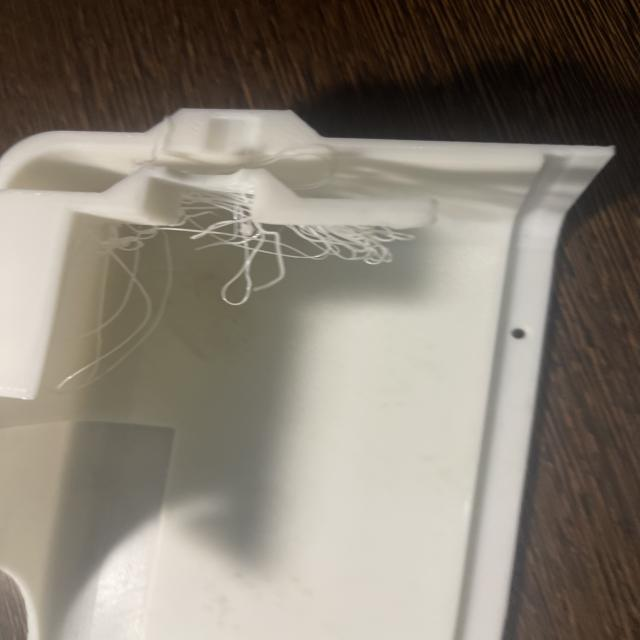stringing: (102, 204, 404, 350)
